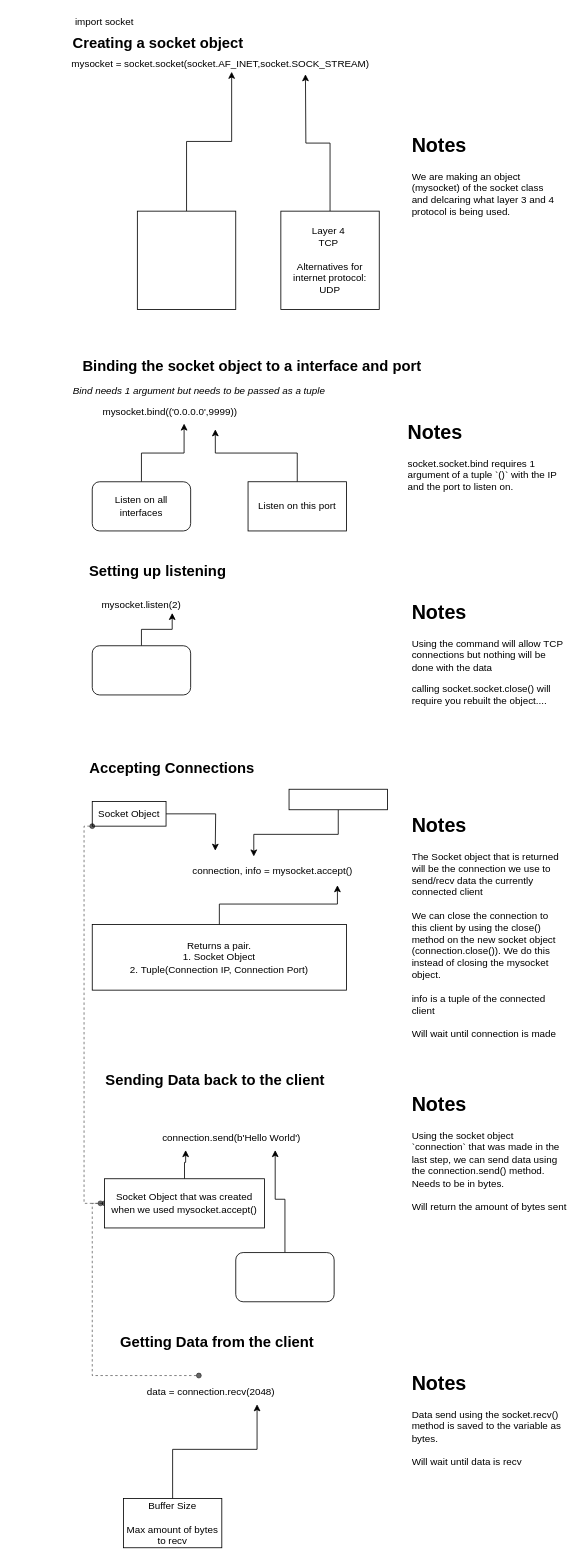
Image size: 585x1562. Some labels were removed from this diagram. Here are the shapes that lost their labels. From the top down, the centre of each, then its label:
the point at 186,260: Layer 3 Internet Protocol Alternatives: bluetooth inet6 link
the point at 141,670: Number of connections allowed at once
the point at 337,799: Tuple of IP and Port
the point at 284,1277: Data we send needs to be in bytes
